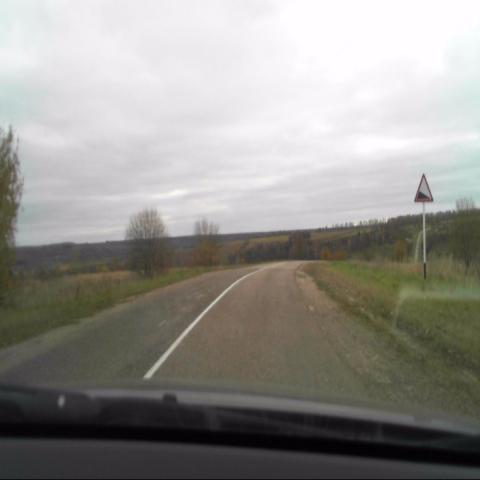1_13: (414, 172, 434, 204)
